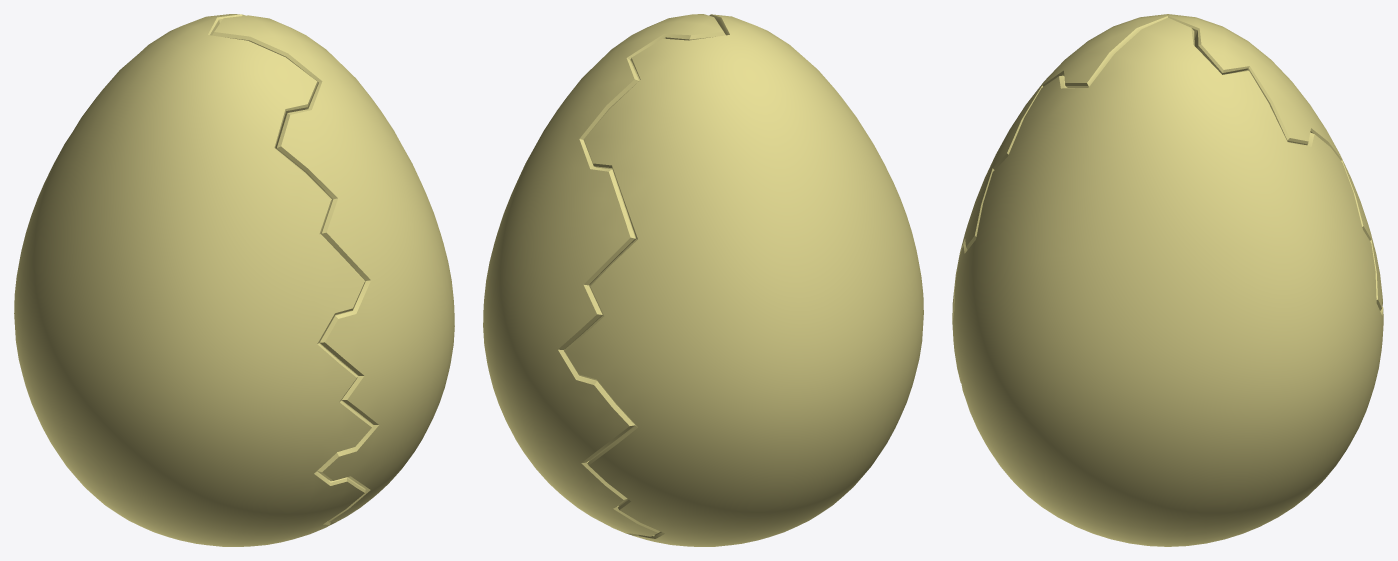
File: EggAnimation01.fbx
3 views of the same model, side by side, from view 1: azimuth 30°, elevation 25°; view 2: azimuth 150°, elevation 25°; view 3: azimuth 270°, elevation 25° (orthographic).
Visible parts, largest first — view 1: Egg_L, Egg_R; view 2: Egg_L, Egg_R; view 3: Egg_R, Egg_L.
Boxes of the visible parts, left/top/right/bottom form: Egg_L: left=14, top=14, right=373, bottom=546; Egg_R: left=212, top=15, right=454, bottom=533; Egg_L: left=563, top=14, right=923, bottom=546; Egg_R: left=483, top=14, right=725, bottom=536; Egg_R: left=952, top=18, right=1383, bottom=546; Egg_L: left=952, top=14, right=1382, bottom=382.
Size of the model in its own units: 15.34 by 19.62 by 15.34.
